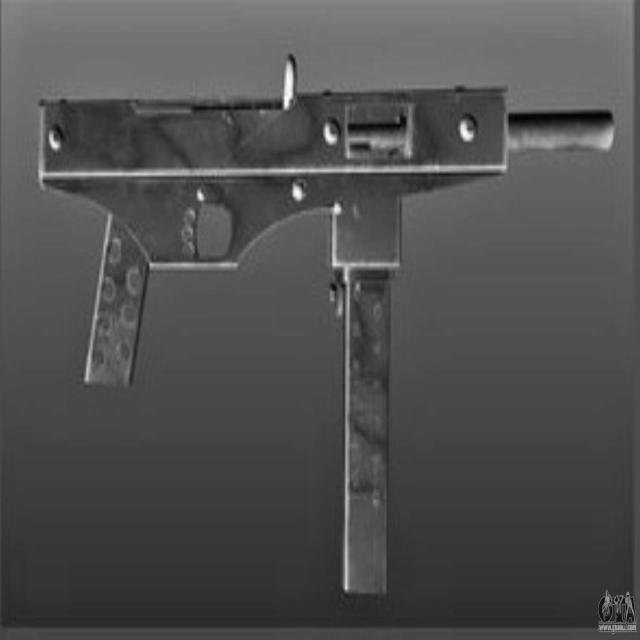Sub-machine-gun: (18, 44, 614, 599)
